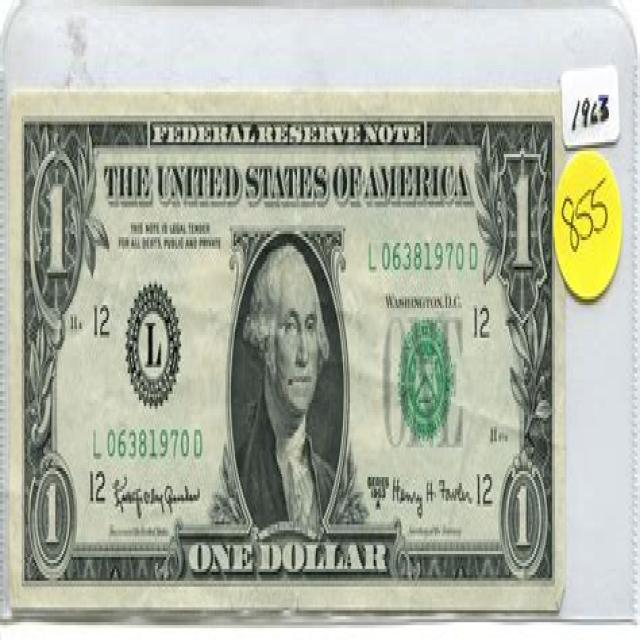One: (8, 89, 566, 616)
